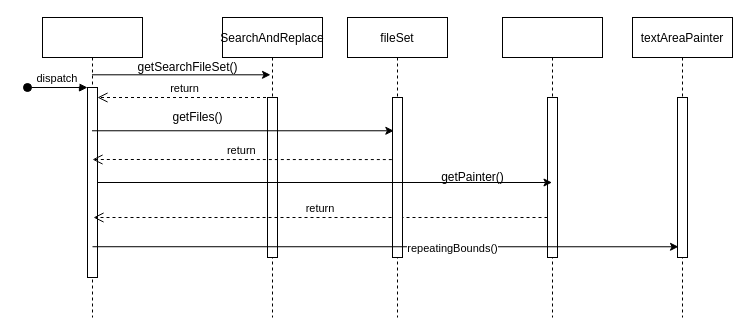
The diagram is 750 pixels wide and 335 high, and some of its shapes have lost their labels. The shapes that lost their labels are listed below. From the top down, each one's box as (x1, y1, x2, y2) in pixels, then its label:
(42, 16, 142, 318): SearchDialog
(502, 16, 602, 318): textArea
